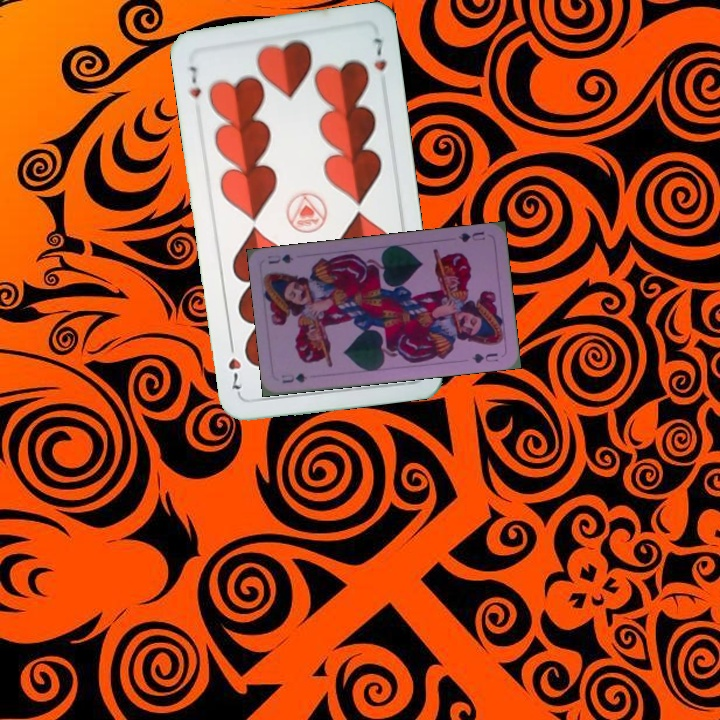GU: (277, 369, 310, 386), (455, 228, 487, 245)
H7: (186, 62, 204, 101)
